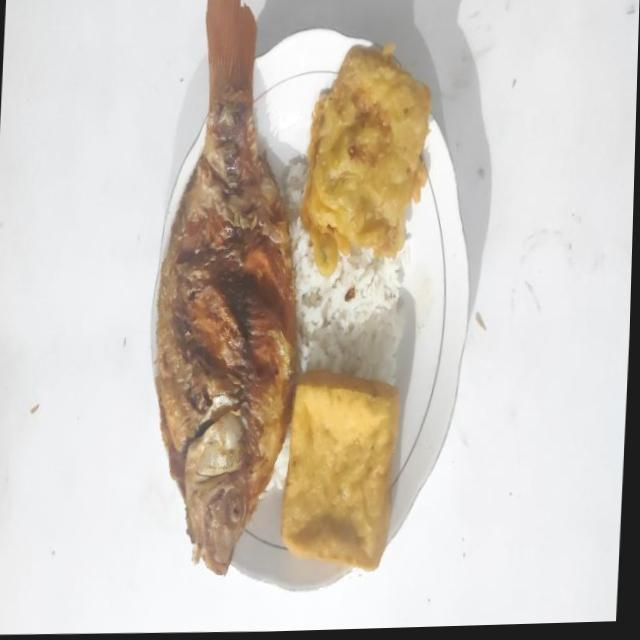ikan_mujair: (154, 0, 296, 574)
nasi_putih: (278, 156, 410, 384), (265, 431, 290, 492)
tahu_goreng: (281, 369, 398, 570)
